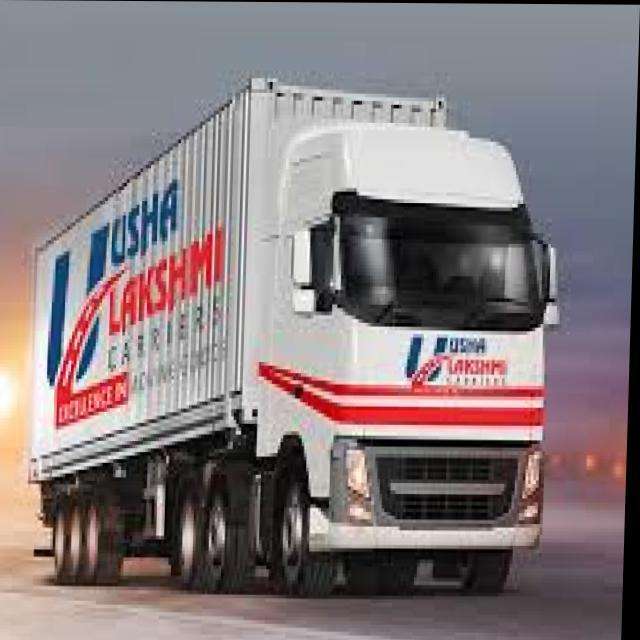covered: (21, 69, 567, 596)
